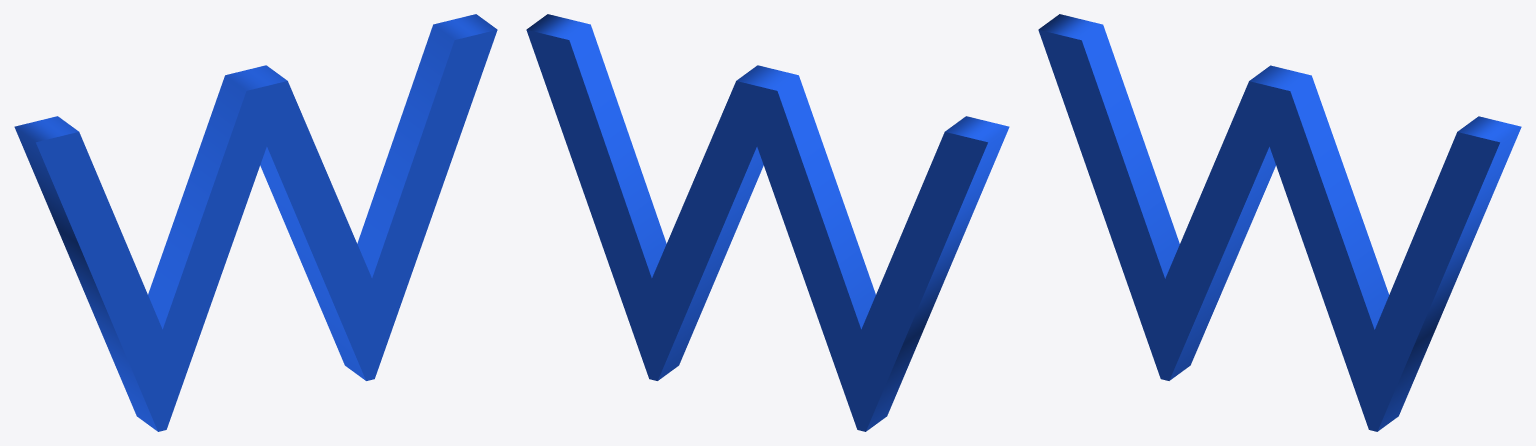
File: BigWScale2.glb
3 views of the same model, side by side, from view 1: azimuth 30°, elevation 25°; view 2: azimuth 150°, elevation 25°; view 3: azimuth 330°, elevation 25° (orthographic).
Visible parts, largest first — view 1: Big W; view 2: Big W; view 3: Big W.
Part boxes in pixels (<box>): Big W: <box>14,14,497,431</box>; Big W: <box>526,14,1009,431</box>; Big W: <box>1038,14,1521,431</box>.
Size of the model in its own units: 5.48 by 3.62 by 0.44.
